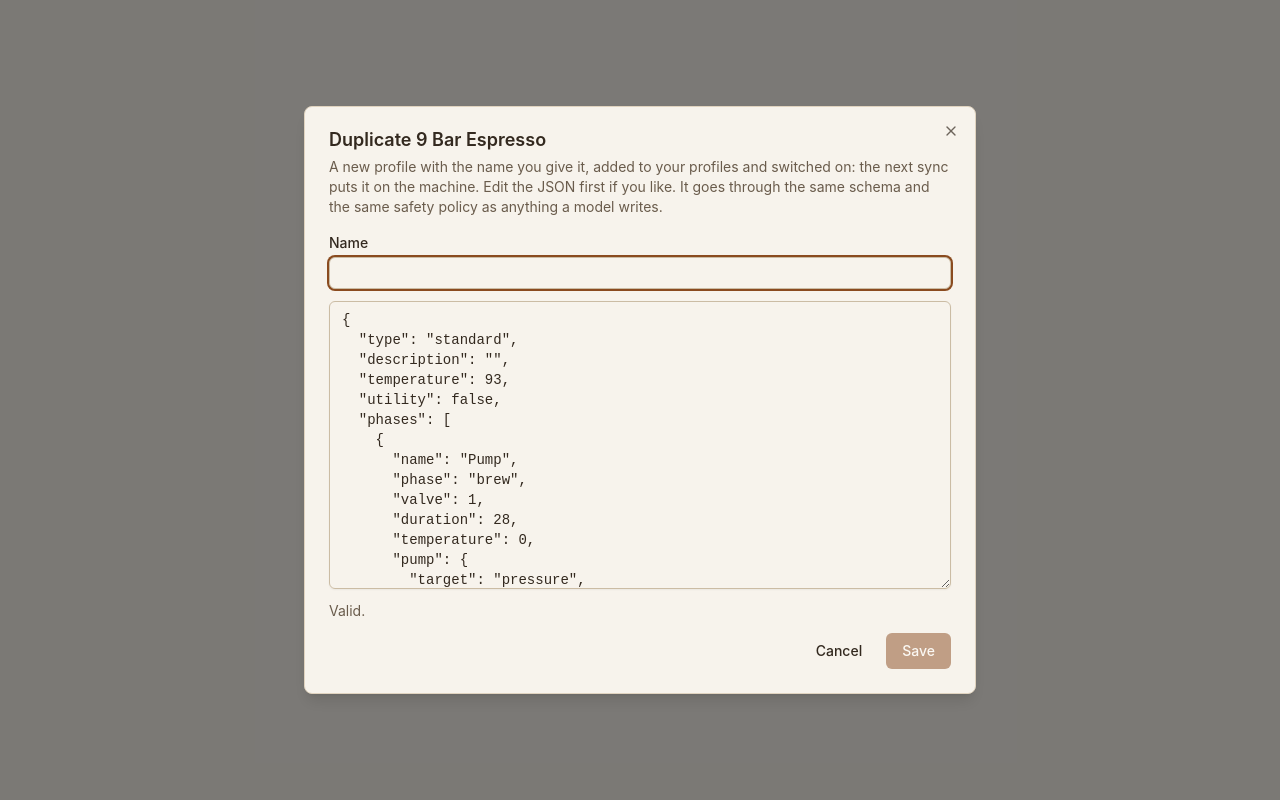
it: DuplicateProfileDialog › shows a taken name's sentence under the field and waits for another name
The width and height of the screenshot is (1280, 800).
Expected: the text "Valid." is shown, [329,602,365,619]
Type "9 bar espresso" into the field with test id "duplicate-profile-name" at x=640, y=273, box [329,257,951,289]
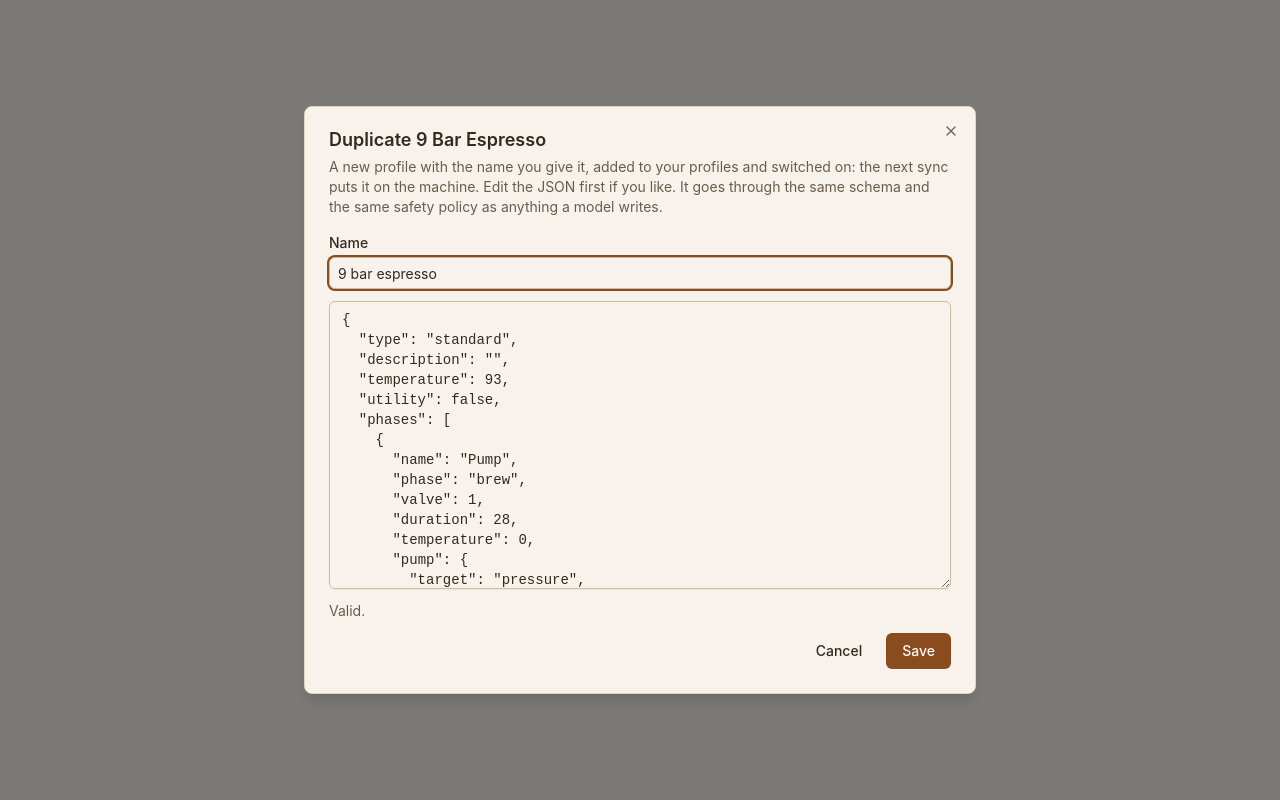
Click the button with test id "save-duplicate" at x=919, y=651, box [886,633,951,669]
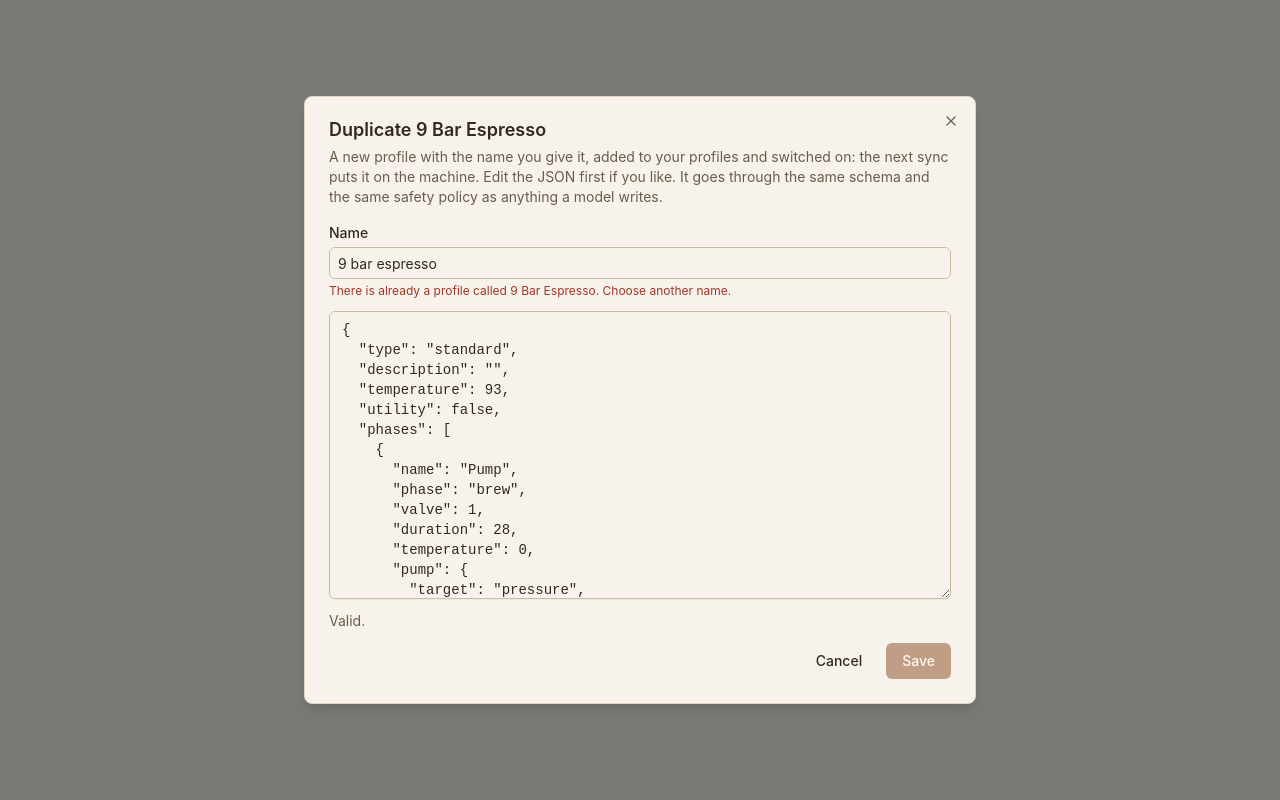
Expected: the message with test id "duplicate-profile-name-taken" reads "There is already a profile called 9 Bar Espresso. Choose another name.", [329,283,731,298]
Expected: the button with test id "save-duplicate" is disabled, [886,643,951,679]
Type " 2" into the field with test id "duplicate-profile-name" at x=640, y=263, box [329,247,951,279]
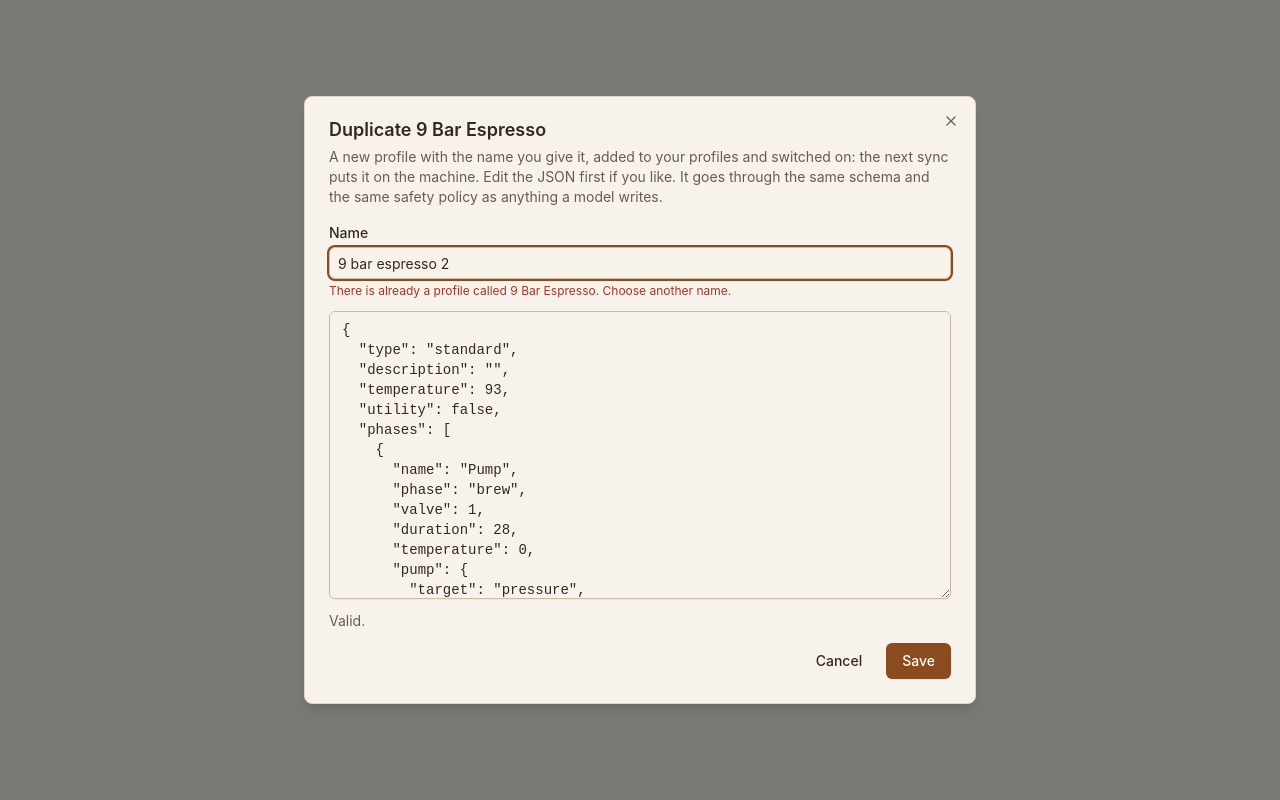
Expected: the button with test id "save-duplicate" is enabled, [886,643,951,679]
